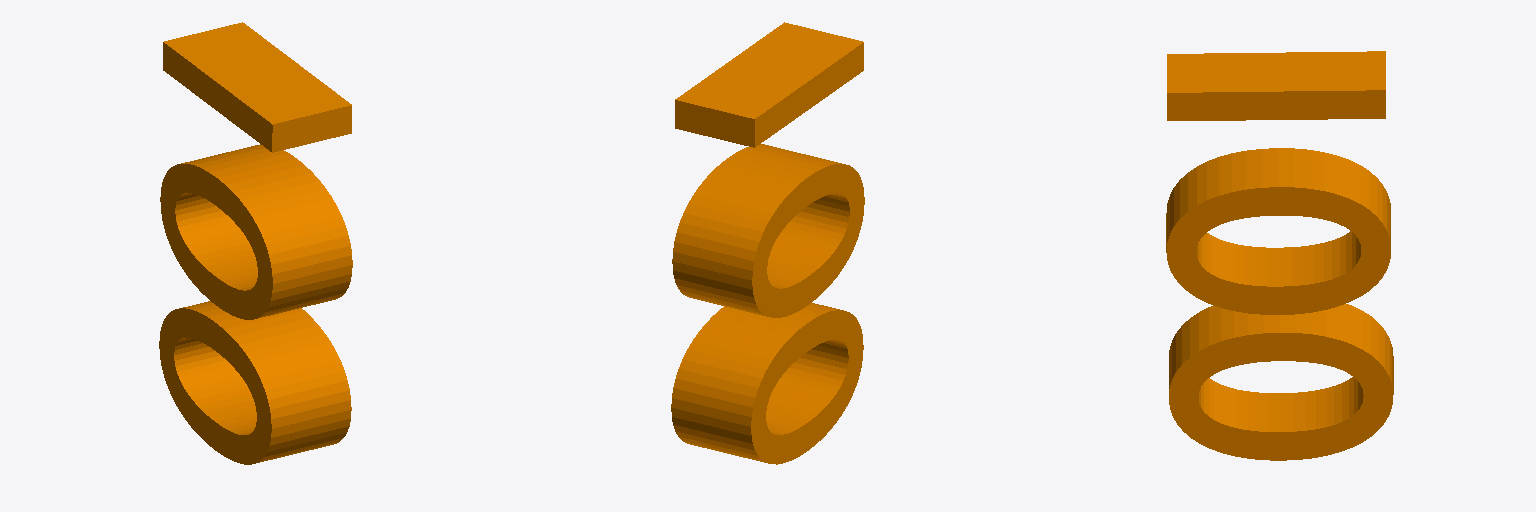
File: artifact_100.obj
3 views of the same model, side by side, from view 1: azimuth 30°, elevation 25°; view 2: azimuth 150°, elevation 25°; view 3: azimuth 270°, elevation 25° (orthographic).
Visible parts, largest first — view 1: Text_Mesh; view 2: Text_Mesh; view 3: Text_Mesh.
Boxes of the visible parts, x1,y1,x2,y2 form: Text_Mesh: [159, 22, 352, 464]; Text_Mesh: [671, 22, 864, 464]; Text_Mesh: [1166, 51, 1393, 460].
Bounding box in the file's own units: 0.6983 × 3.09 × 1.72.